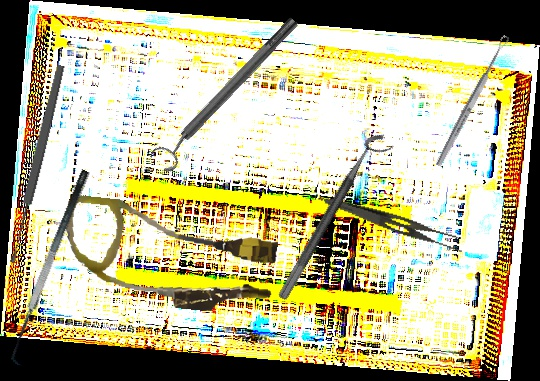Cannula: (58, 194, 281, 318)
Dressing Forceps: (320, 196, 467, 255)
Fixation Ring: (146, 10, 308, 176), (276, 128, 397, 309)
Spatula Surgical: (1, 168, 106, 369)
Surgical Spoon: (6, 64, 67, 264), (434, 34, 511, 168)
